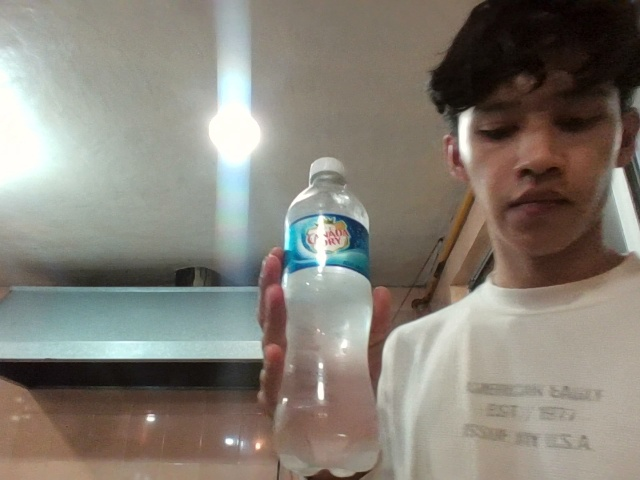botella: (270, 155, 380, 406)
